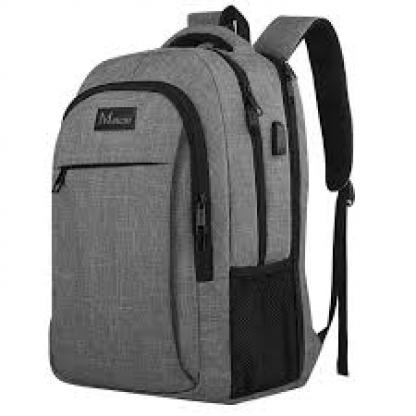morral: (31, 2, 368, 408)
